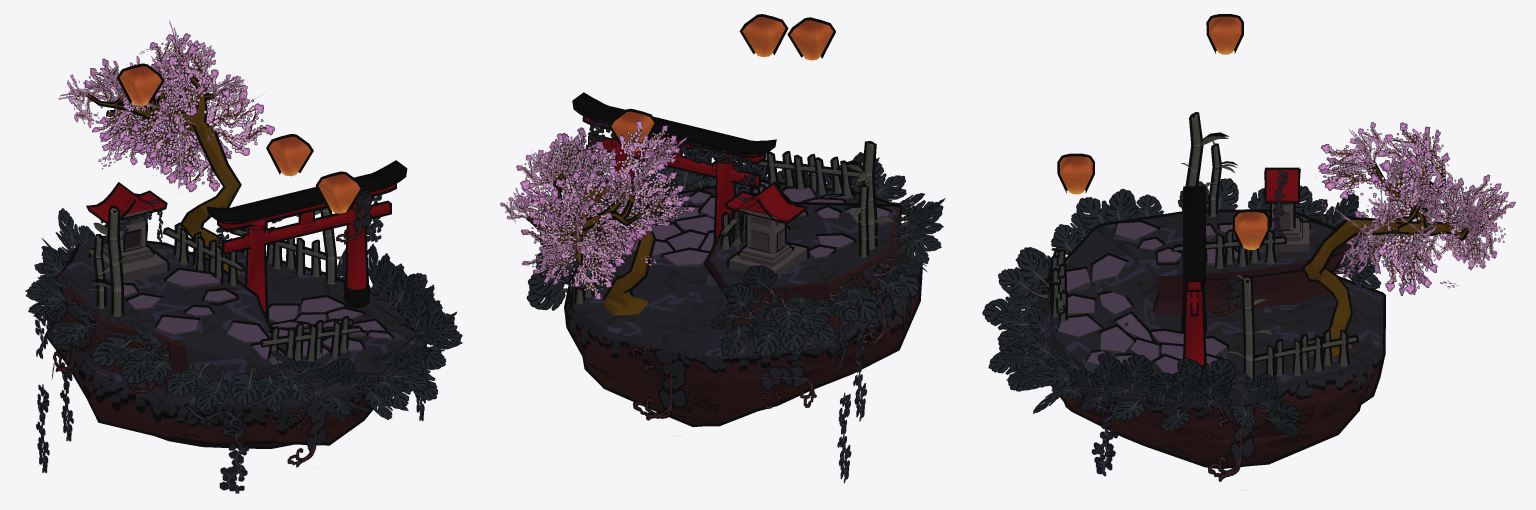
The model's file is japanese_diorama.glb.
The picture shows the model from 3 angles, left to right: view 1: azimuth 30°, elevation 25°; view 2: azimuth 150°, elevation 25°; view 3: azimuth 270°, elevation 25°; orthographic projection. The views are drawn at different scales.
Visible parts, largest first — view 1: island, leaves.001, BLACK OUTLINE AND LANTERNS, branch.058, torii_gate_, pathway, fence, large vines.002, foliage 1.009, shrine, trunk.001, long vines (+2 smaller); view 2: island, branch.058, BLACK OUTLINE AND LANTERNS, leaves.001, foliage 1.009, pathway, torii_gate_, shrine, trunk.001, large vines.002, fence, long vines (+2 smaller); view 3: island, leaves.001, BLACK OUTLINE AND LANTERNS, branch.058, pathway, torii_gate_, trunk.001, fence, foliage 1.009, shrine, long vines, bamboo stick.001 (+1 smaller).
Part boxes in pixels (<box>): island: <box>47,236,423,446</box>; leaves.001: <box>25,208,462,423</box>; BLACK OUTLINE AND LANTERNS: <box>45,63,426,448</box>; branch.058: <box>58,20,274,192</box>; torii_gate_: <box>209,162,405,316</box>; pathway: <box>123,270,391,363</box>; fence: <box>165,225,360,364</box>; large vines.002: <box>34,195,383,493</box>; foliage 1.009: <box>52,190,372,467</box>; shrine: <box>88,184,167,282</box>; trunk.001: <box>90,74,240,275</box>; long vines: <box>36,199,425,473</box>; island: <box>567,184,919,424</box>; branch.058: <box>500,120,695,299</box>; BLACK OUTLINE AND LANTERNS: <box>526,14,922,426</box>; leaves.001: <box>526,152,945,357</box>; foliage 1.009: <box>631,161,915,420</box>; pathway: <box>631,182,890,267</box>; torii_gate_: <box>574,95,774,238</box>; shrine: <box>727,184,806,277</box>; trunk.001: <box>528,178,653,315</box>; large vines.002: <box>586,119,882,374</box>; fence: <box>576,153,861,304</box>; long vines: <box>648,133,866,483</box>; island: <box>1033,211,1383,466</box>; leaves.001: <box>982,178,1381,435</box>; BLACK OUTLINE AND LANTERNS: <box>1026,14,1483,468</box>; branch.058: <box>1318,122,1515,295</box>; pathway: <box>1057,222,1237,374</box>; torii_gate_: <box>1184,188,1204,369</box>; trunk.001: <box>1304,166,1480,356</box>; fence: <box>1052,231,1356,377</box>; foliage 1.009: <box>1185,277,1255,481</box>; shrine: <box>1248,169,1309,253</box>; long vines: <box>1091,169,1287,476</box>; bamboo stick.001: <box>1225,274,1274,382</box>.
Bounding box in the file's own units: 3.66 × 3.88 × 4.7.
Materials: 16 (15 with a texture image).
